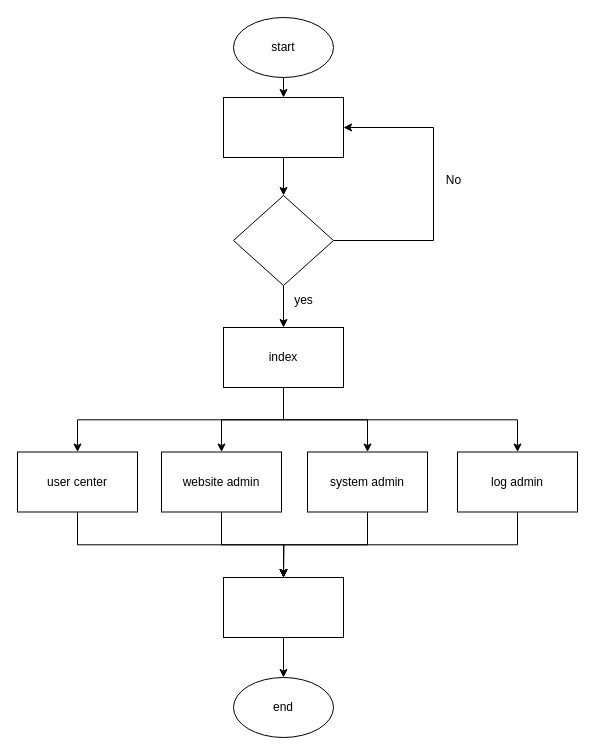
This 595x755 diagram has some shape labels left out. The shapes that lost their labels are listed below. From the top down, each one's centre as x and y in pixels, then its label:
At pixel 283 127: "login".
At pixel 283 240: "account and password is correct".
At pixel 283 607: "logout".
